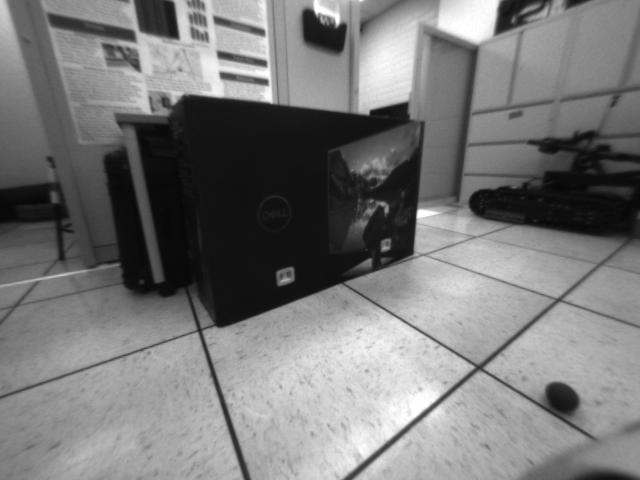dogtoy: (540, 374, 585, 422)
